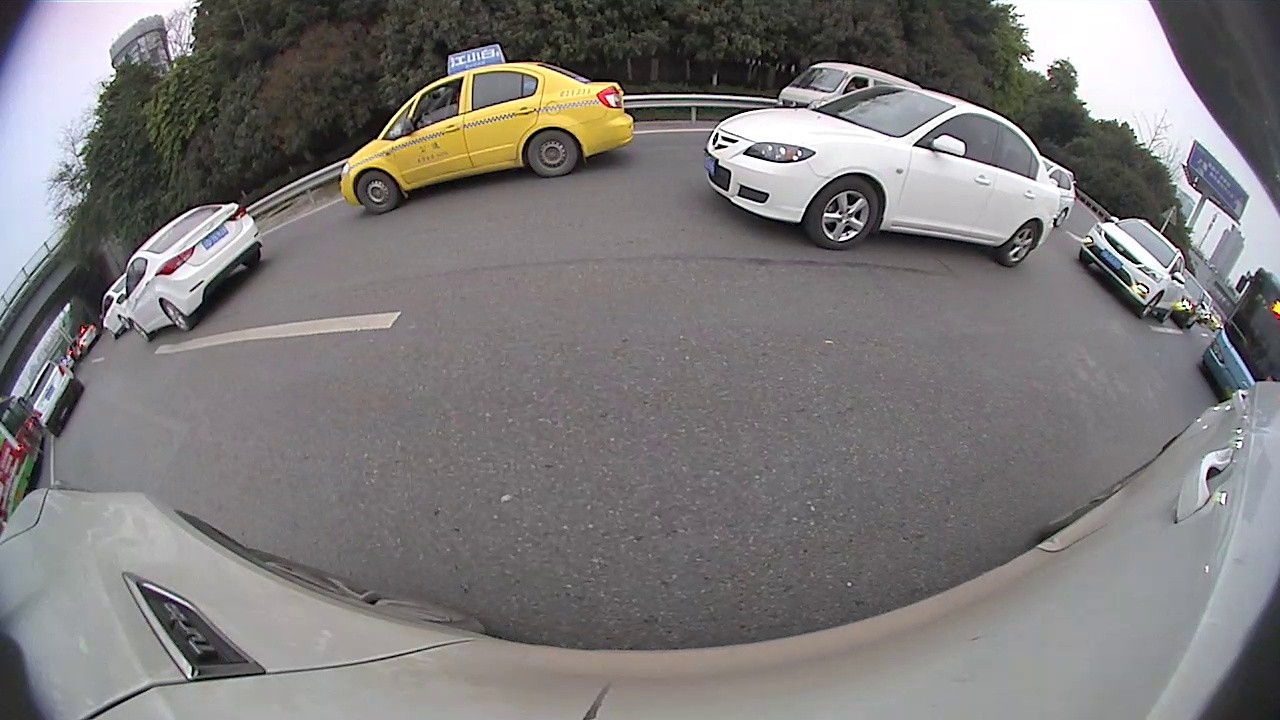bus: (1198, 260, 1279, 403)
car: (698, 84, 1064, 269), (336, 41, 638, 219), (118, 198, 266, 345), (1074, 215, 1188, 324), (775, 60, 909, 113), (26, 354, 86, 439), (1036, 148, 1078, 229), (95, 269, 138, 341)
front: (802, 177, 884, 252), (354, 171, 401, 216), (1139, 289, 1163, 322), (130, 319, 154, 344)
rear: (524, 127, 583, 181), (998, 218, 1042, 270), (159, 299, 193, 336)
